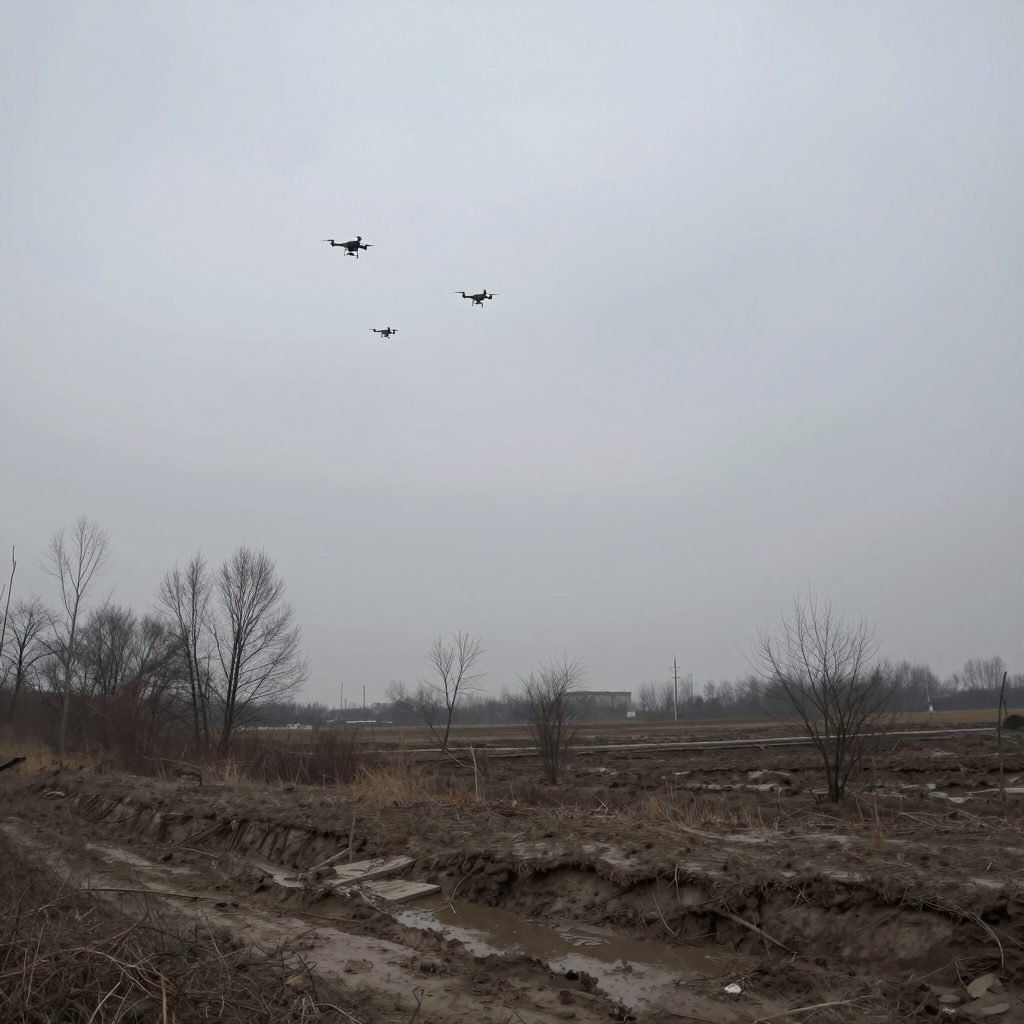drone: (321, 236, 375, 259), (454, 289, 500, 308), (368, 327, 398, 339)
